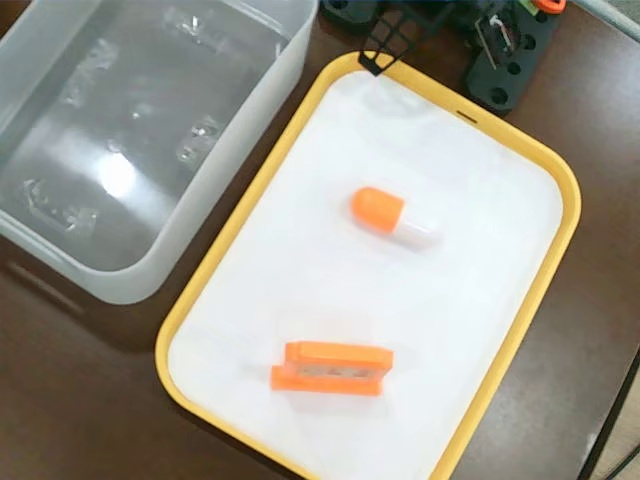pill: (346, 182, 449, 249)
